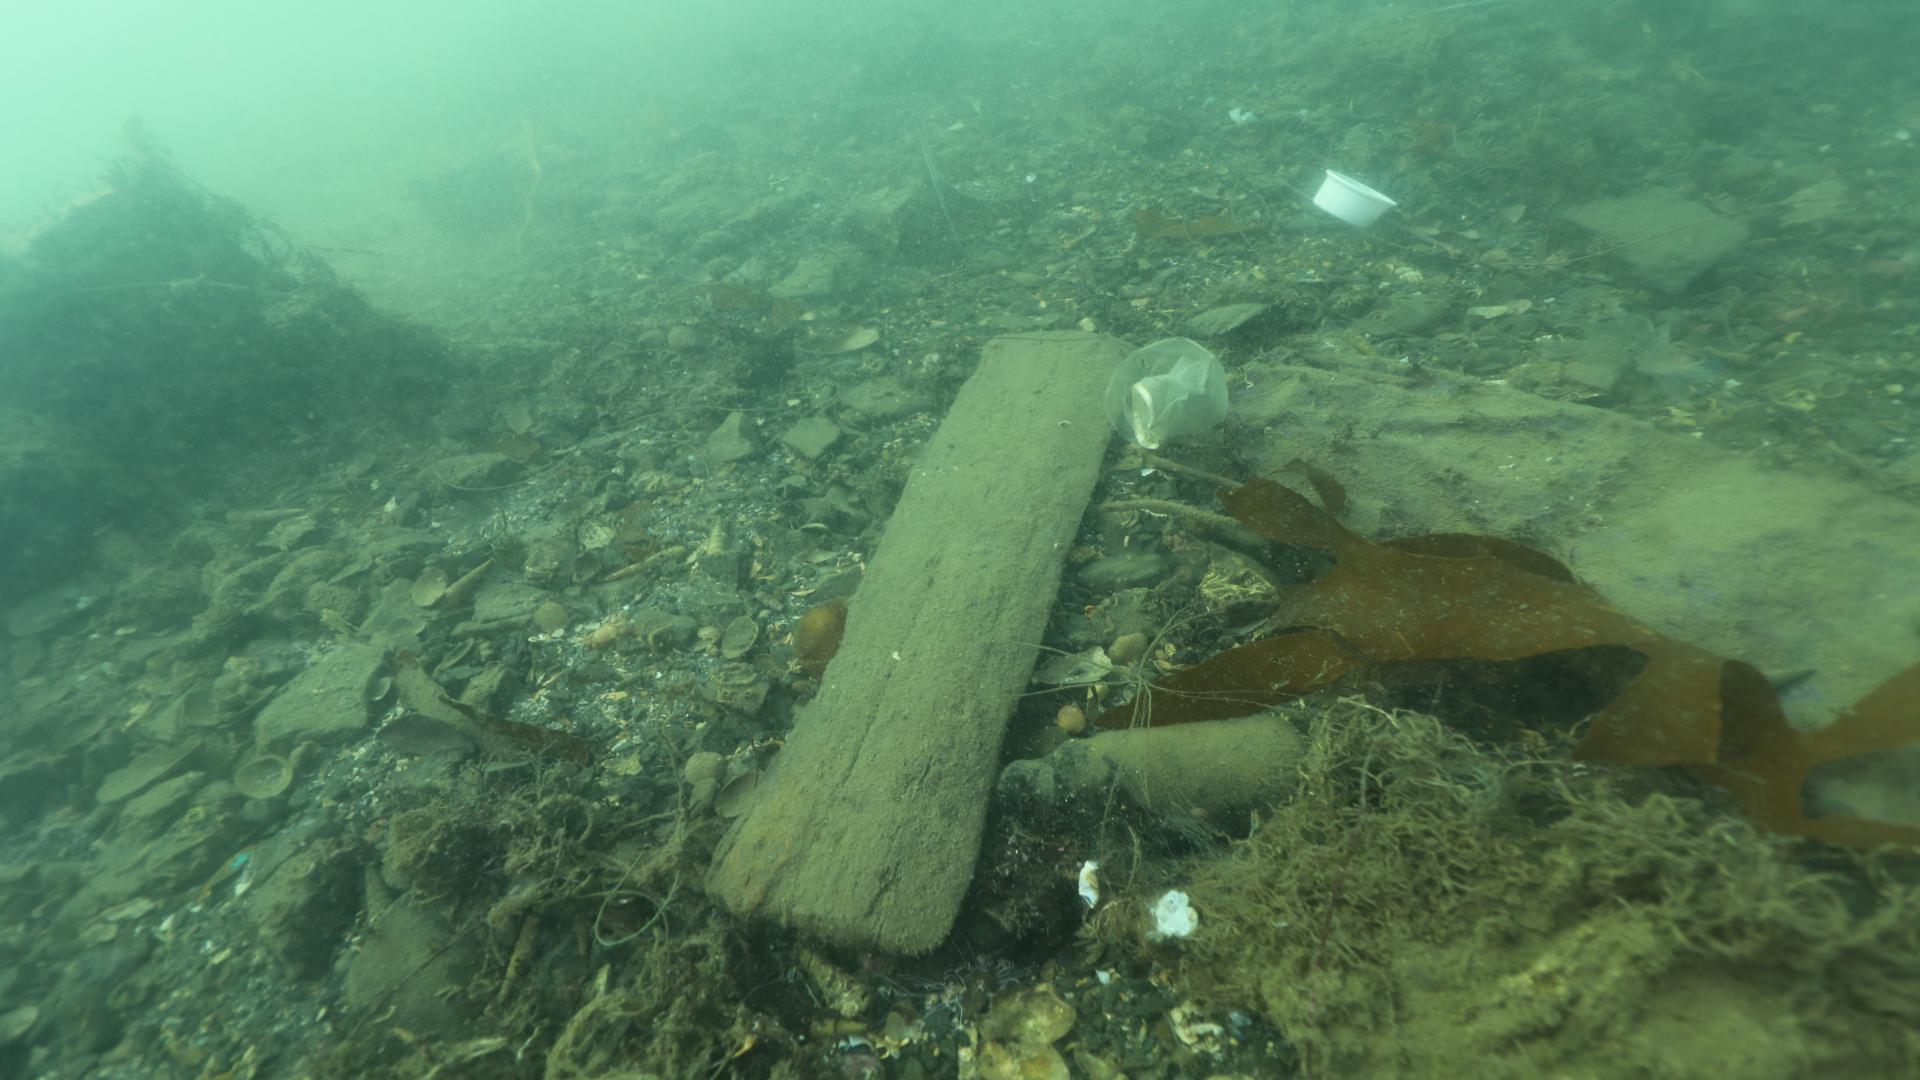wood: (696, 323, 1138, 965)
